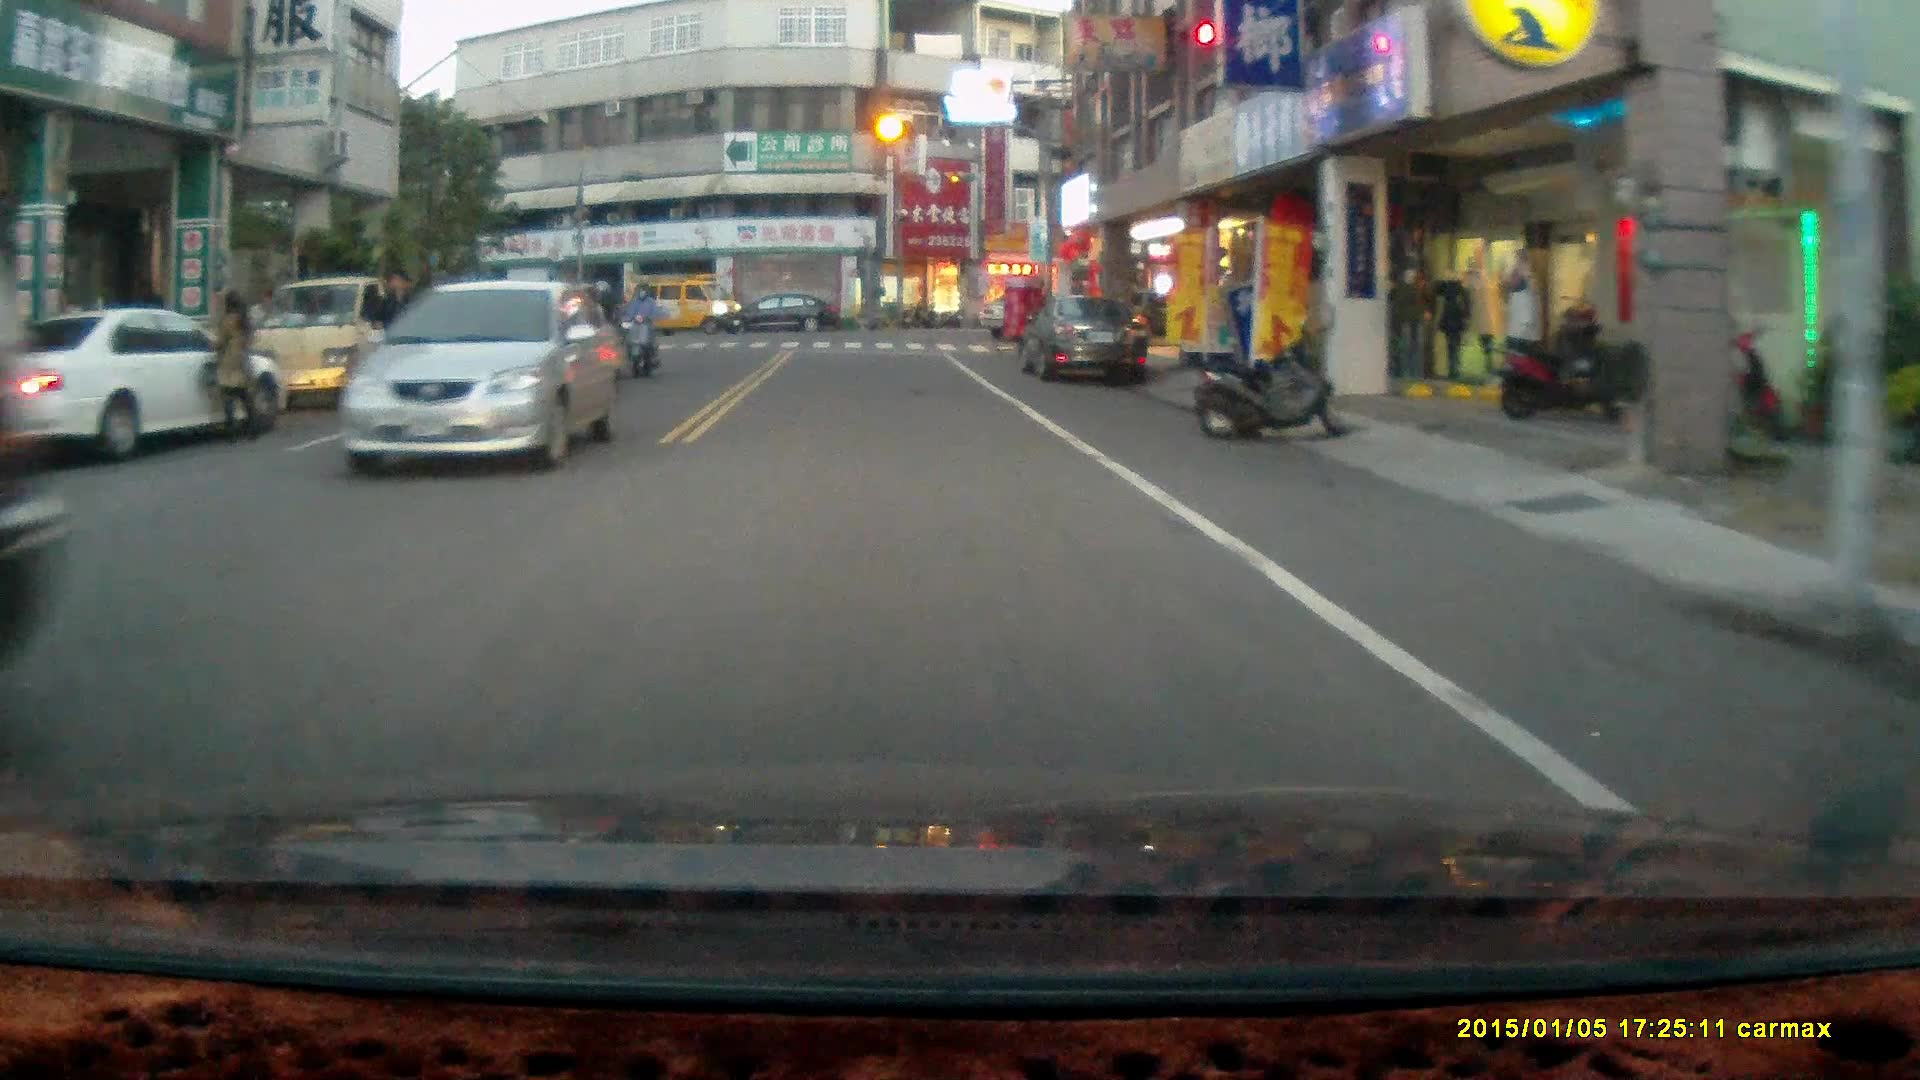pedestrian: (200, 287, 260, 446), (364, 263, 423, 411)
rider: (622, 279, 661, 379)
vehicle: (337, 277, 630, 478), (1, 303, 282, 469), (1016, 287, 1157, 387), (624, 274, 744, 336), (724, 292, 842, 337)
